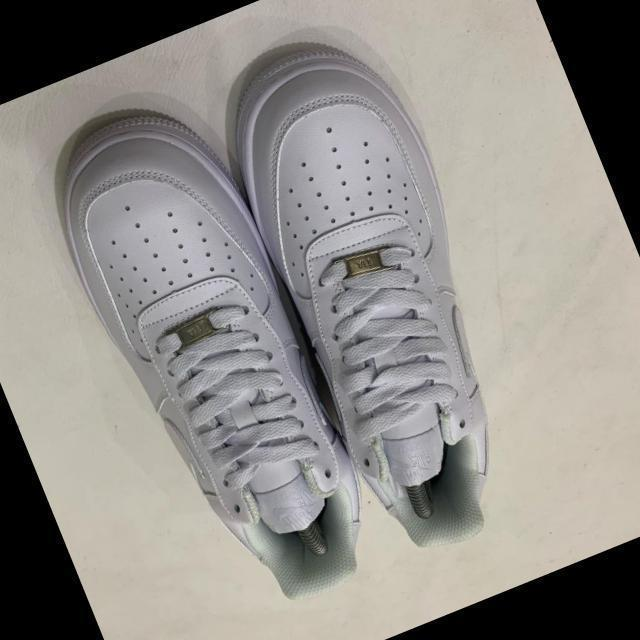nike fake air force: (201, 12, 582, 581), (26, 80, 394, 640)
